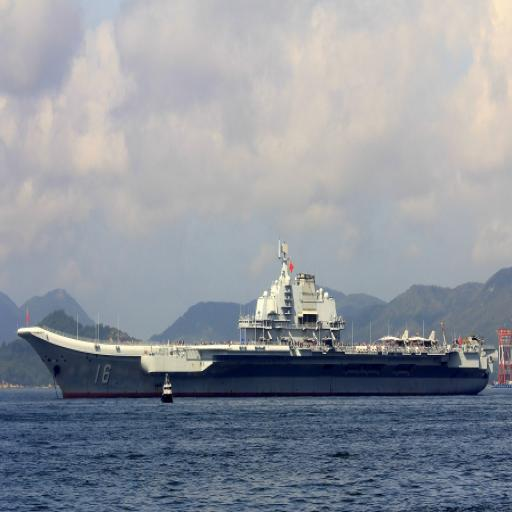Portanaves: (16, 232, 493, 408)
